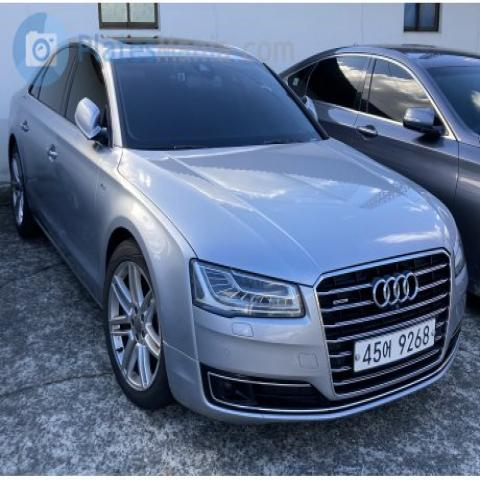LP: (342, 301, 446, 381)
